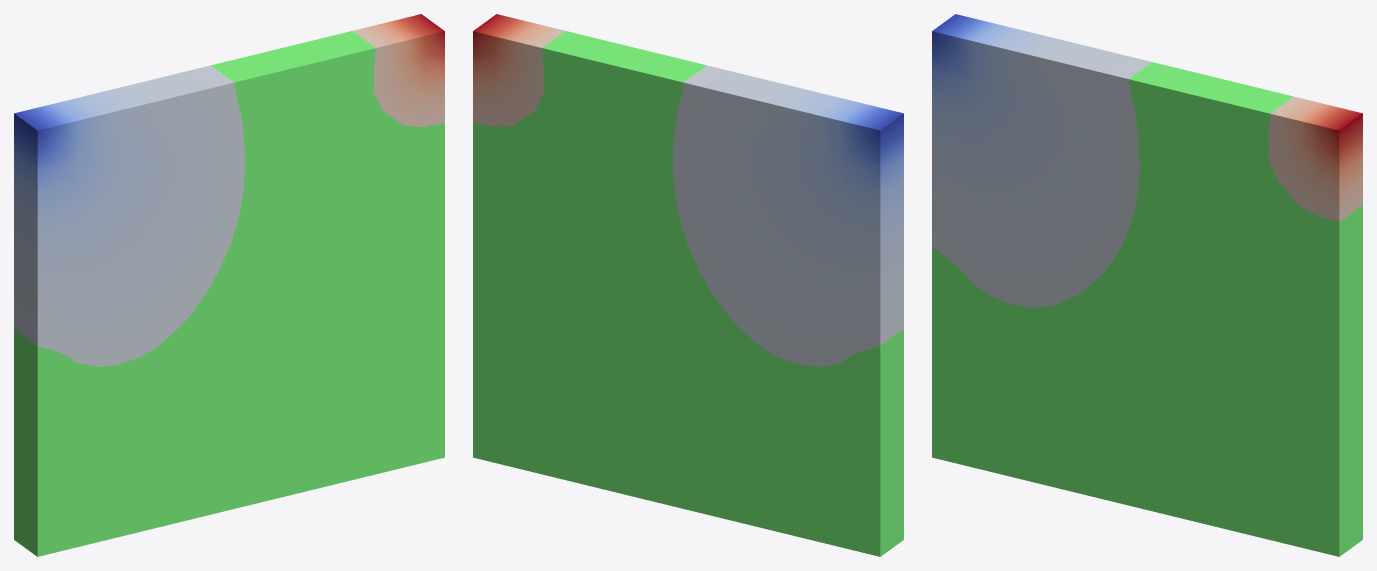
File: cavity_gltf.gltf
3 renders of one model, left to right at view 1: azimuth 30°, elevation 25°; view 2: azimuth 150°, elevation 25°; view 3: azimuth 330°, elevation 25°, orthographic.
Visible parts, largest first — view 1: Renderer Node; view 2: Renderer Node; view 3: Renderer Node.
Part boxes in pixels (bbox=[...]): Renderer Node: bbox=[14, 14, 444, 556]; Renderer Node: bbox=[473, 14, 903, 556]; Renderer Node: bbox=[932, 14, 1362, 556].
Bounding box in the file's own units: 0.1 × 0.1 × 0.01.
1 material, 1 textured.
